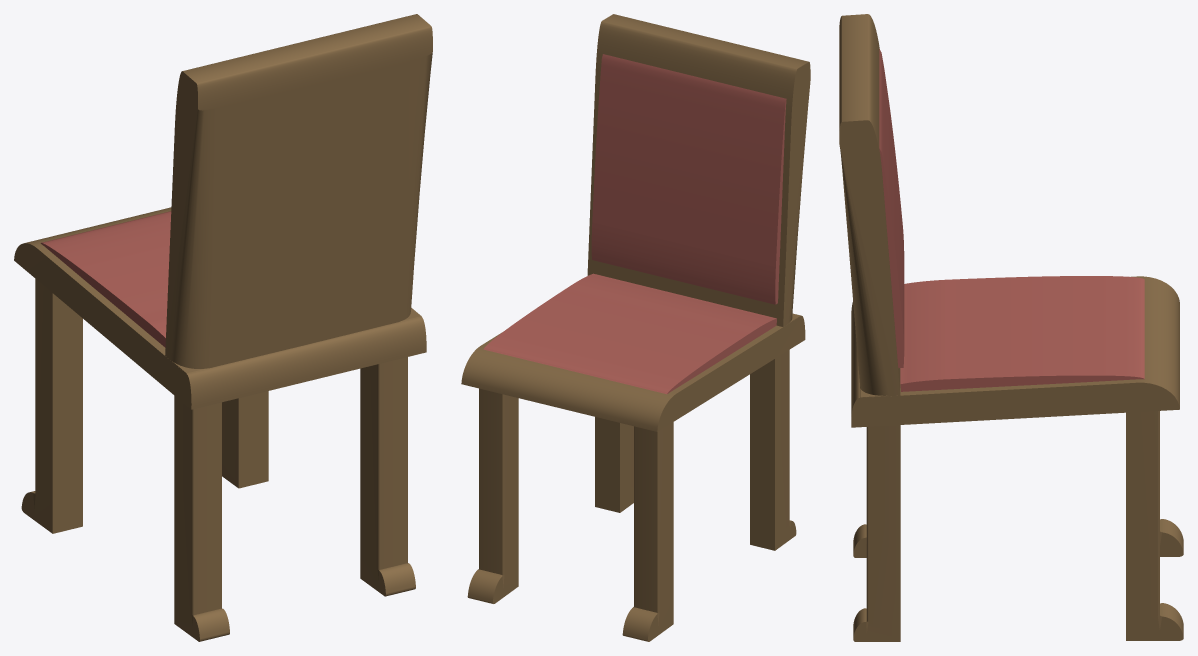
Rendered from Chair.fbx.
The picture shows the model from 3 angles, left to right: view 1: azimuth 30°, elevation 25°; view 2: azimuth 150°, elevation 25°; view 3: azimuth 270°, elevation 25°; orthographic projection. The views are drawn at different scales.
Parts seen in each view (by area): view 1: Cube.028; view 2: Cube.028; view 3: Cube.028.
Boxes of the visible parts, bbox=[...] form: Cube.028: bbox=[14, 14, 432, 641]; Cube.028: bbox=[461, 14, 810, 641]; Cube.028: bbox=[839, 14, 1183, 641].
Bounding box in the file's own units: 110 × 254 × 151.
